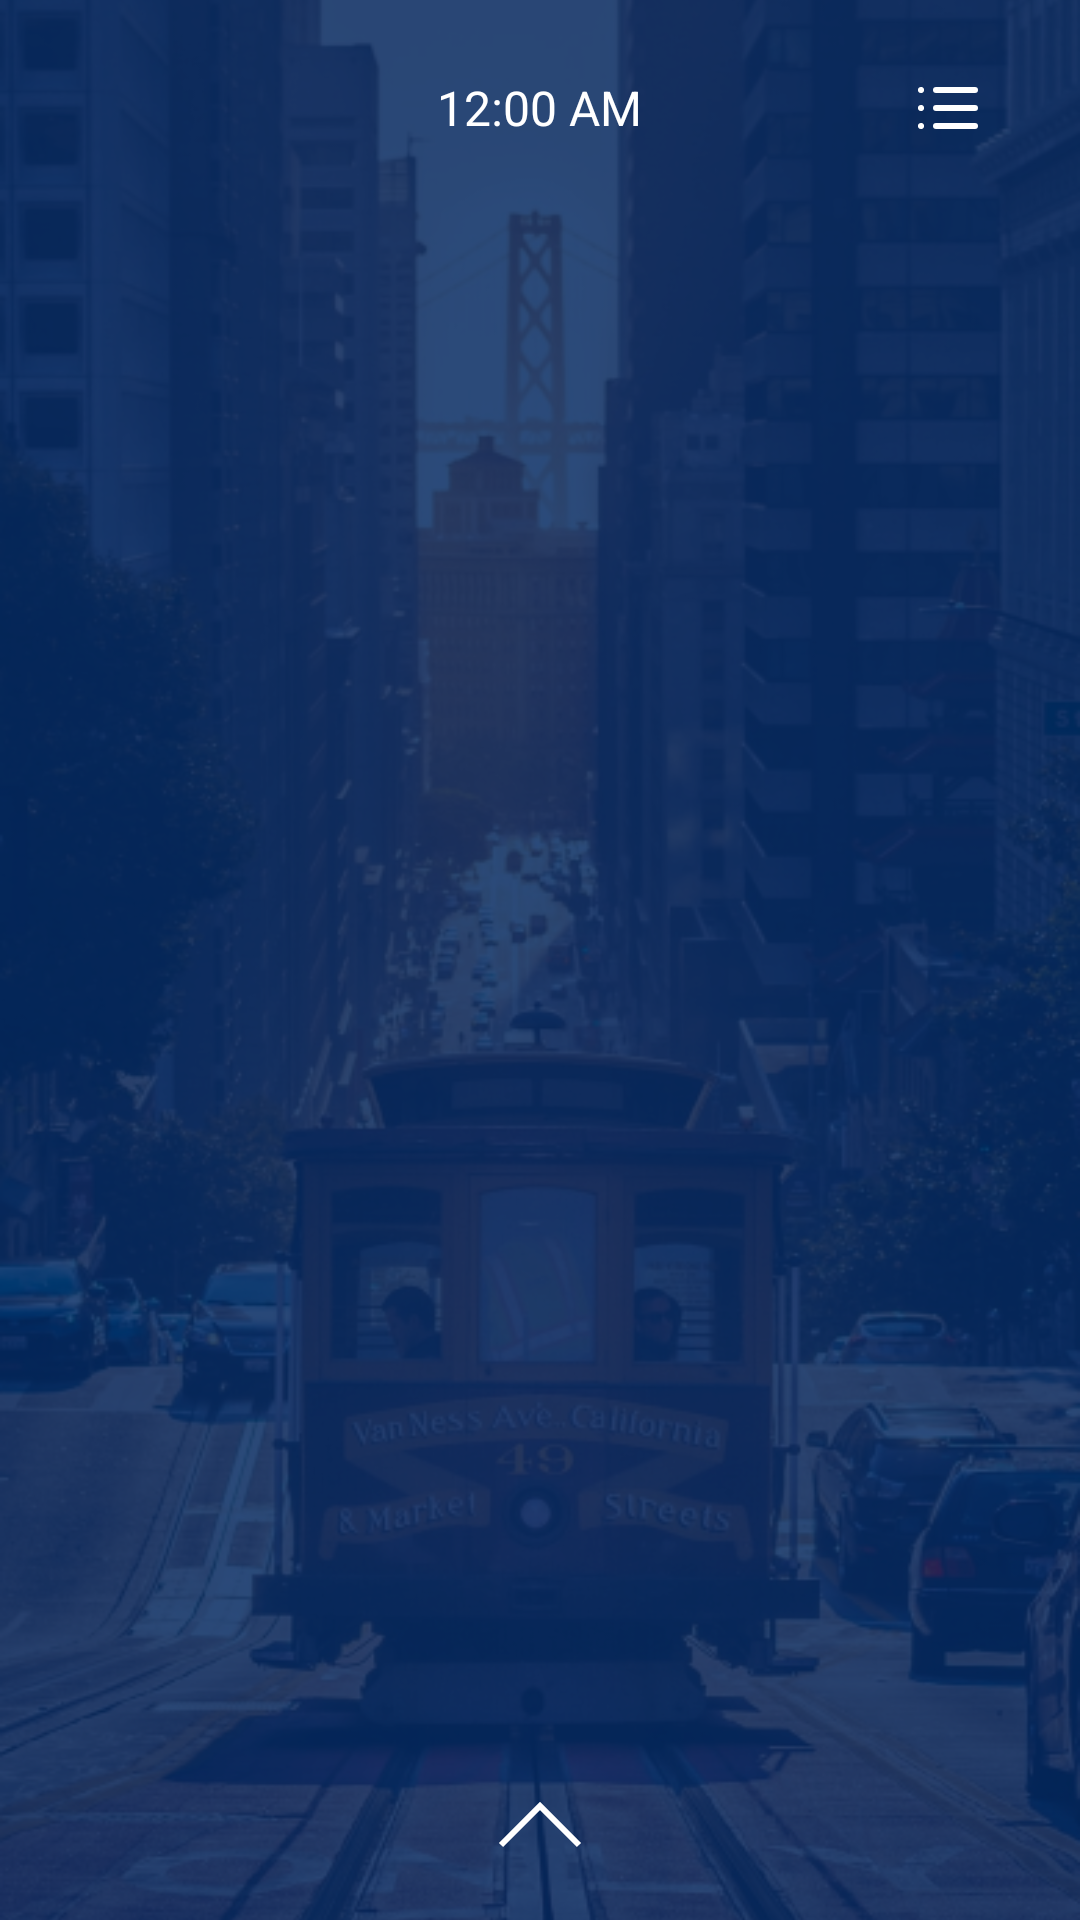

Point at icon controls on the screen. Image size 1080x1920, points as (x,y).
arrow top: (540,1824)
menu: (959,111)
